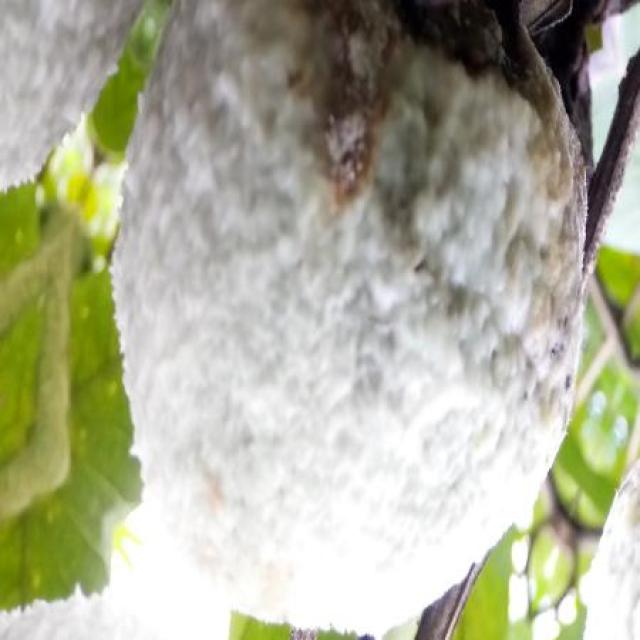Phytopthora: (114, 0, 586, 629), (0, 0, 141, 188)
